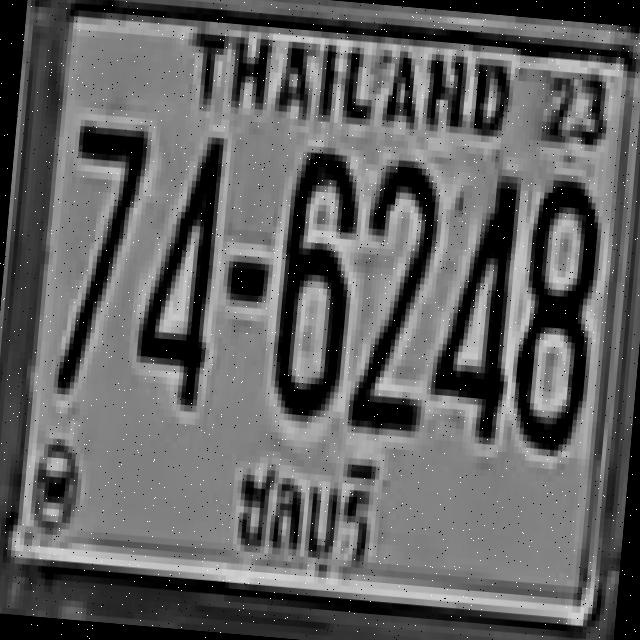2: (348, 154, 438, 428)
4: (128, 126, 224, 406), (422, 164, 518, 438)
6: (268, 144, 359, 412)
7: (52, 119, 146, 392)
8: (506, 172, 602, 446)
Chonburi: (224, 428, 388, 592)
